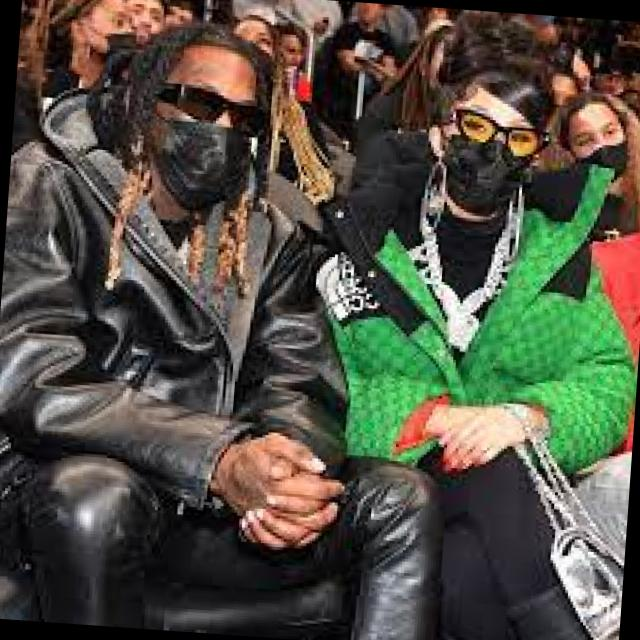Jacket: (0, 128, 351, 596), (295, 150, 640, 560)
